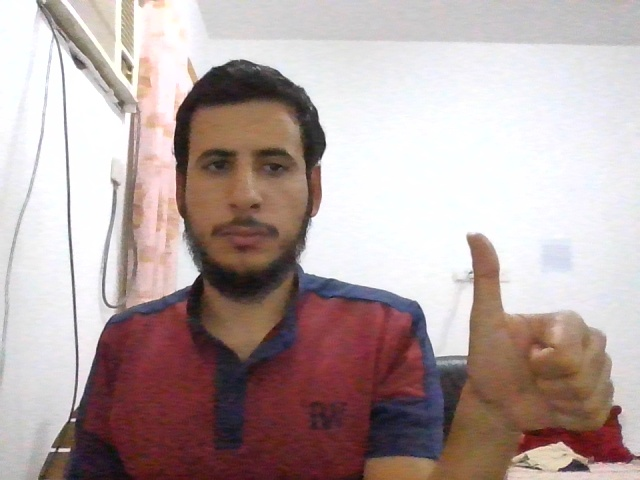One: (465, 231, 616, 431)
